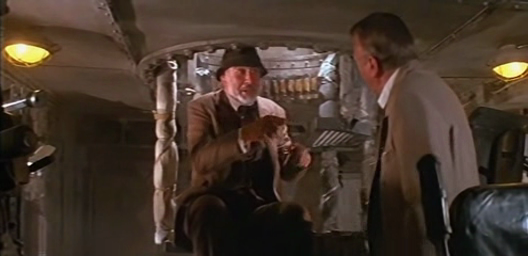face: (233, 67, 259, 102)
ms: (1, 1, 528, 256)
person: (349, 8, 481, 256), (181, 43, 312, 255)
